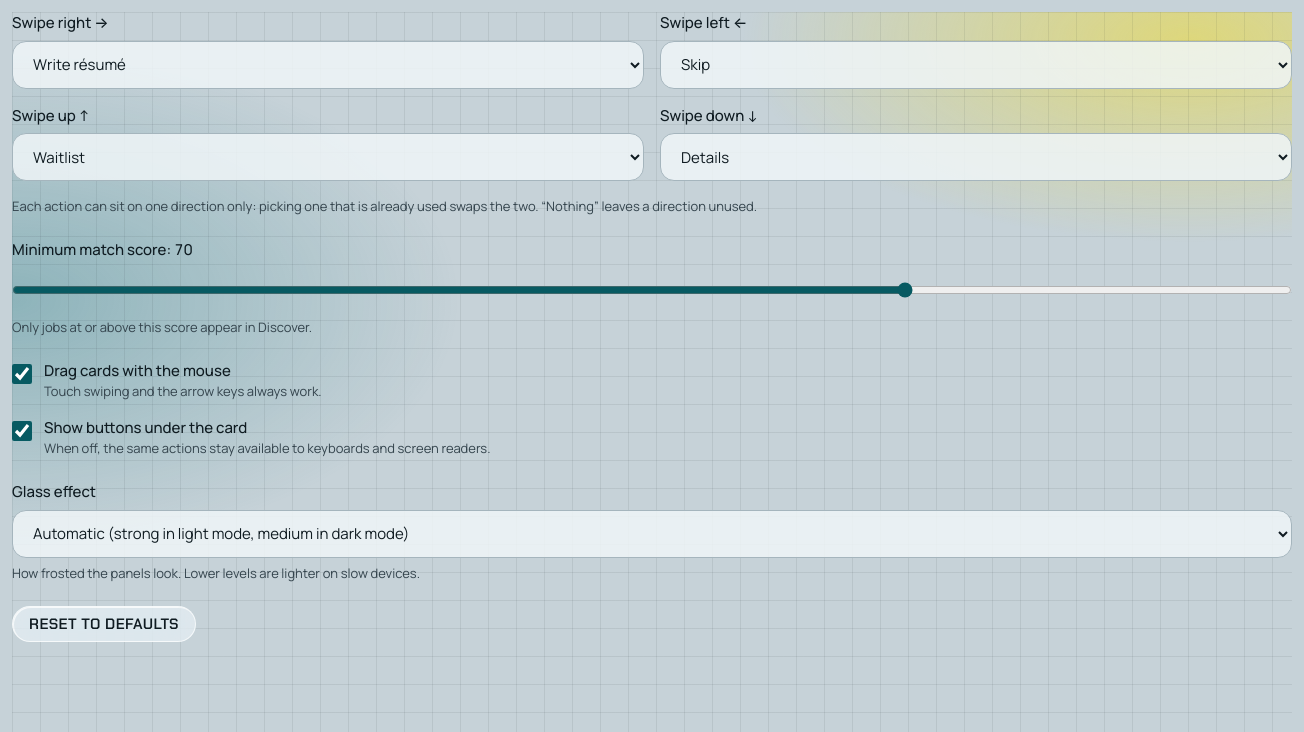
Test case: DeckSettings › saves the threshold, the toggles and the glass level
The width and height of the screenshot is (1304, 732).
Set the slider labelled "Minimum match score: 70" to "85" at (1094, 290), box [12,268,1292,312]
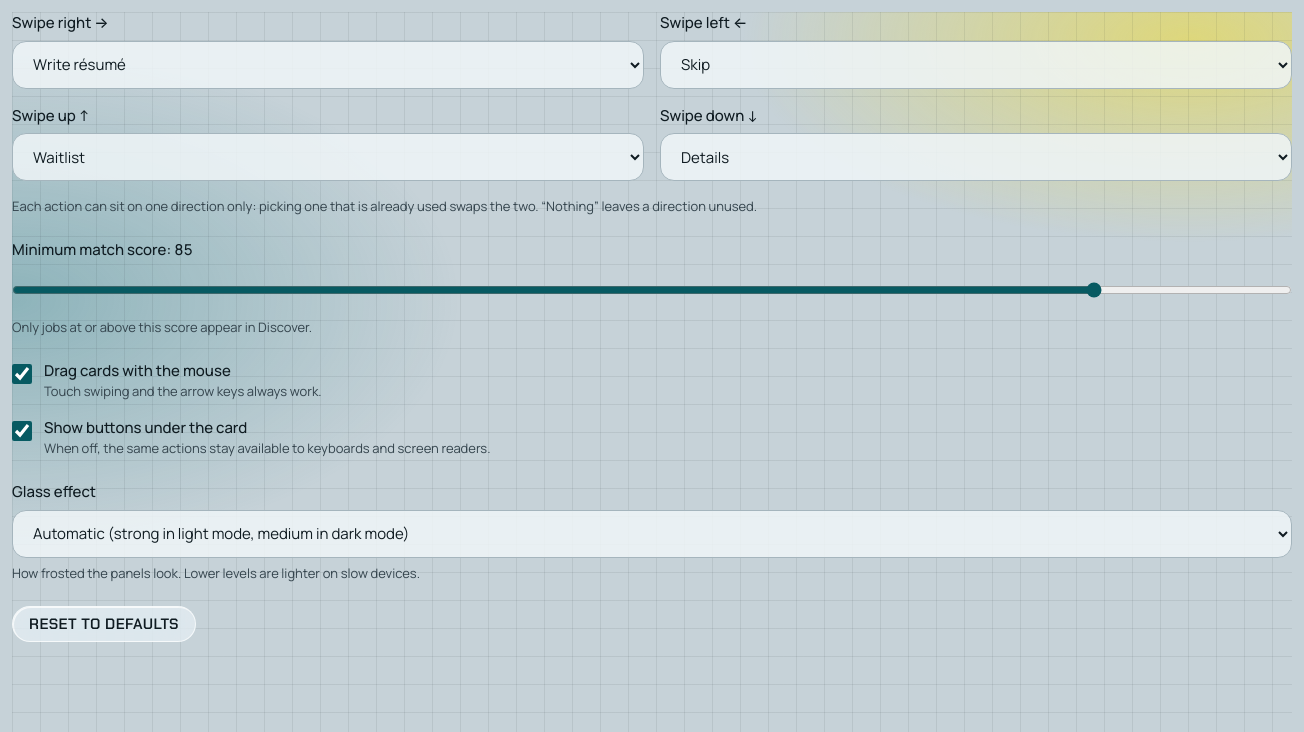
Click the switch labelled "Drag cards with the mouse".
click(22, 374)  # box [12,364,32,384]
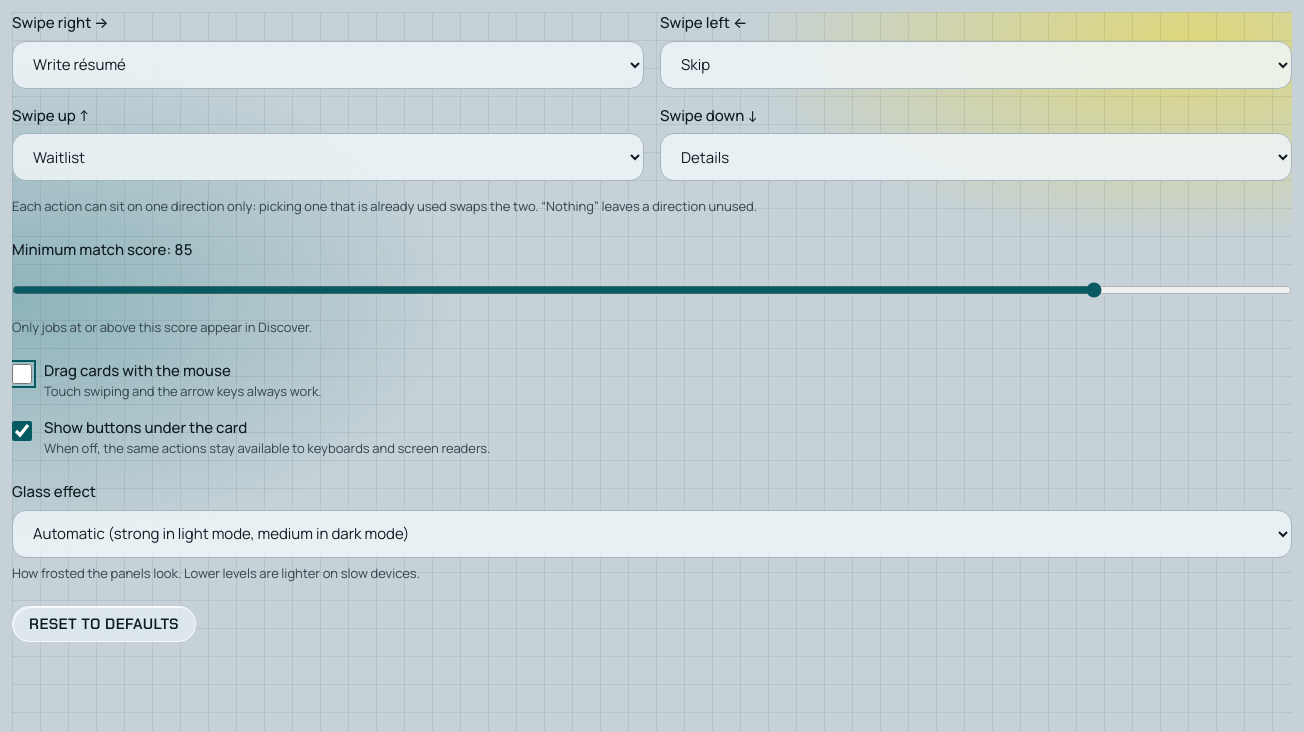
Select "Strong" in the dropdown labelled "Glass effect" at (652, 534), box [12,510,1292,558]
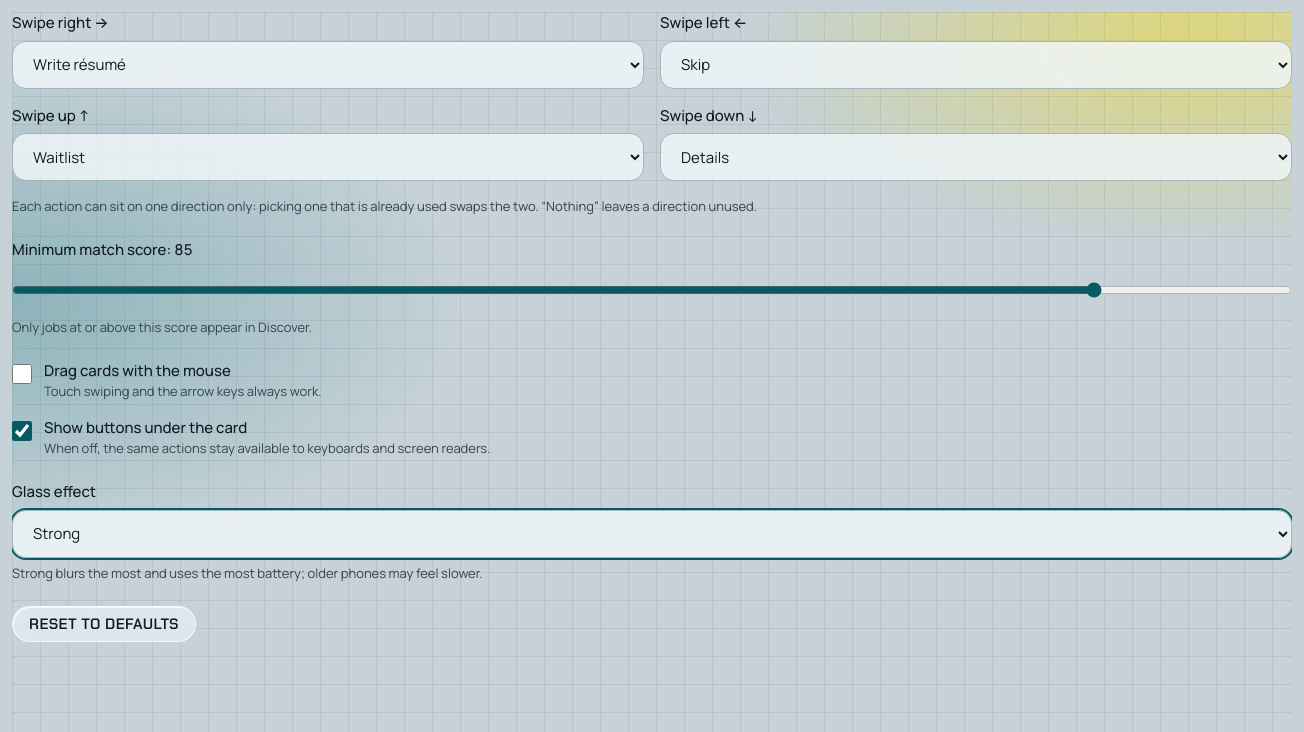
Result: the text "Strong blurs the most" is shown at [12,564,483,582]
